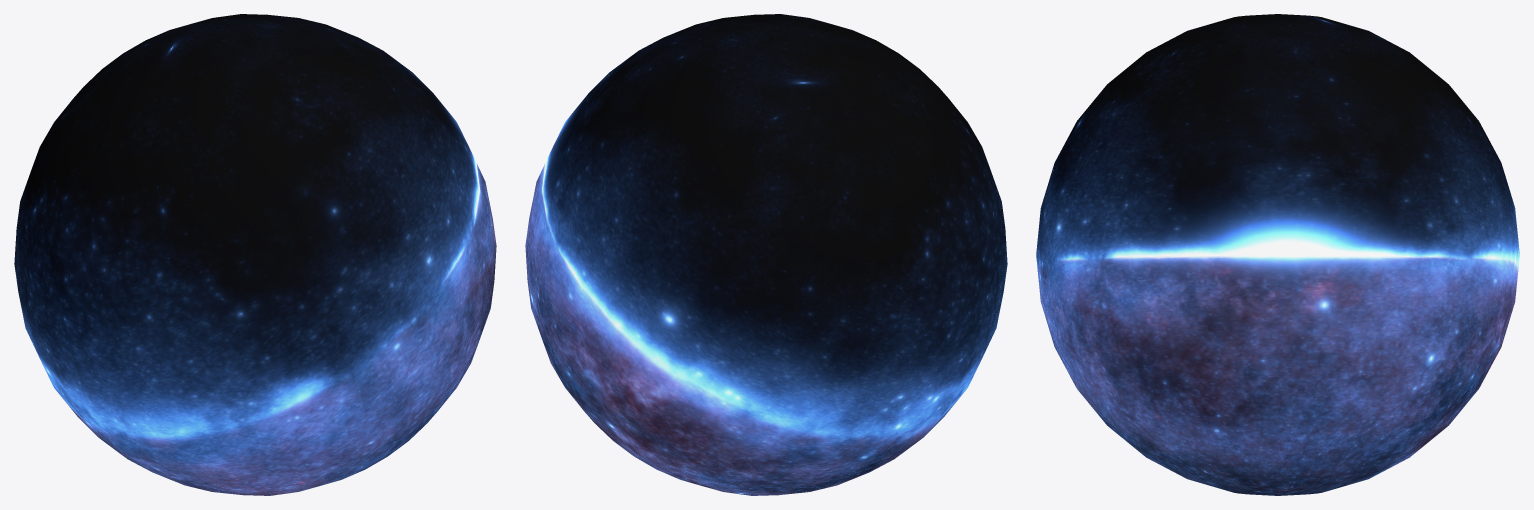
File: milky_way_skybox_hdri_panorama_b57711.fbx
3 views of the same model, side by side, from view 1: azimuth 30°, elevation 25°; view 2: azimuth 150°, elevation 25°; view 3: azimuth 270°, elevation 25° (orthographic).
Visible parts, largest first — view 1: milky_way_skybox_hdri_panorama_b57711; view 2: milky_way_skybox_hdri_panorama_b57711; view 3: milky_way_skybox_hdri_panorama_b57711.
Part boxes in pixels (<box>): milky_way_skybox_hdri_panorama_b57711: <box>14,14,496,495</box>; milky_way_skybox_hdri_panorama_b57711: <box>525,14,1007,495</box>; milky_way_skybox_hdri_panorama_b57711: <box>1036,14,1519,495</box>.
Size of the model in its own units: 19.95 by 19.95 by 20.
